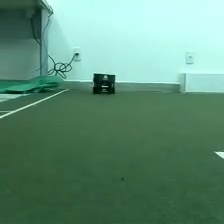goal: (178, 70, 224, 94)
robot: (91, 71, 116, 94)
